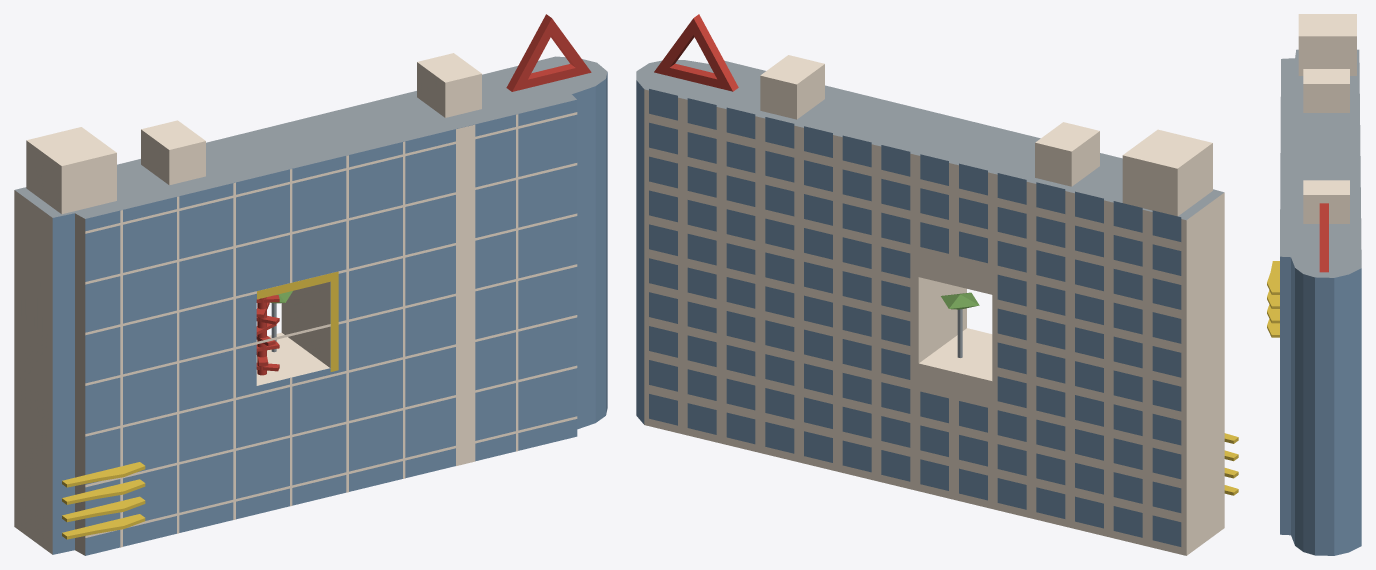
File: mia-atlantis.glb
The picture shows the model from 3 angles, left to right: view 1: azimuth 30°, elevation 25°; view 2: azimuth 150°, elevation 25°; view 3: azimuth 270°, elevation 25°; orthographic projection. The views are drawn at different scales.
Visible parts, largest first — view 1: The Atlantis; view 2: The Atlantis; view 3: The Atlantis.
Boxes of the visible parts, <box> form: The Atlantis: <box>14,14,607,555</box>; The Atlantis: <box>636,14,1238,555</box>; The Atlantis: <box>1267,14,1361,555</box>.
Bounding box in the file's own units: 92.5 × 62.5 × 16.25.
